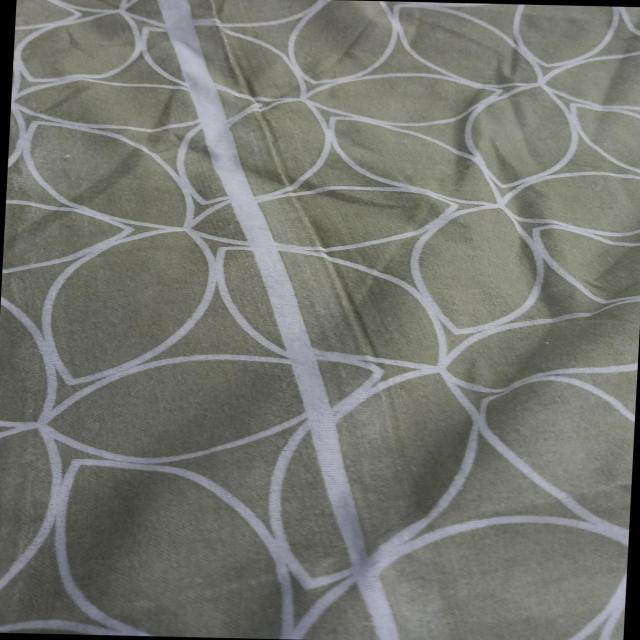selvet: (110, 0, 432, 640)
